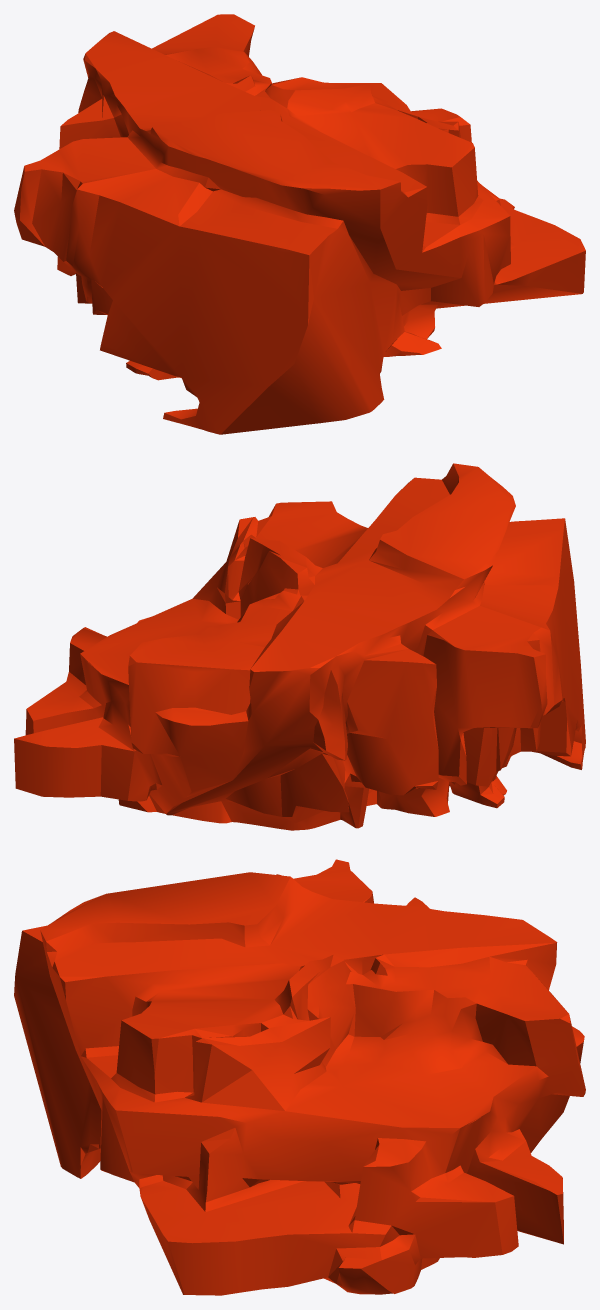
Rendered from canyon_rock_wall_08.fbx.
3 renders of one model, top to bottom at view 1: azimuth 30°, elevation 25°; view 2: azimuth 150°, elevation 25°; view 3: azimuth 270°, elevation 25°, orthographic. The views are drawn at different scales.
Visible parts, largest first — view 1: Circle.029_cell.003; view 2: Circle.029_cell.003; view 3: Circle.029_cell.003.
Boxes of the visible parts, left/top/right/bottom form: Circle.029_cell.003: left=14, top=14, right=585, bottom=434; Circle.029_cell.003: left=14, top=463, right=585, bottom=830; Circle.029_cell.003: left=14, top=859, right=585, bottom=1295.
Bounding box in the file's own units: 1555 × 703 × 1508.
